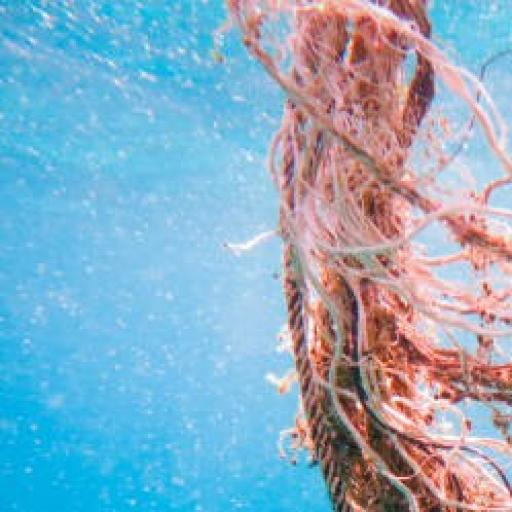net: (272, 4, 508, 505)
